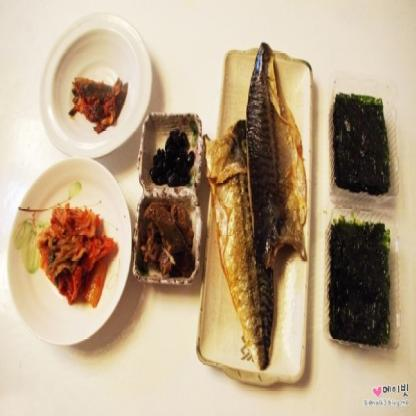Peixe: (198, 40, 315, 384)
